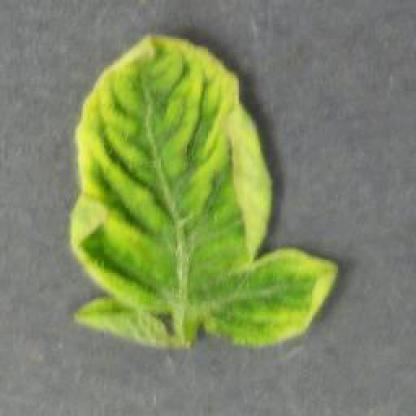bad leaf: (195, 40, 280, 255), (64, 90, 116, 249), (97, 34, 204, 98), (272, 264, 348, 338), (68, 275, 168, 330)
